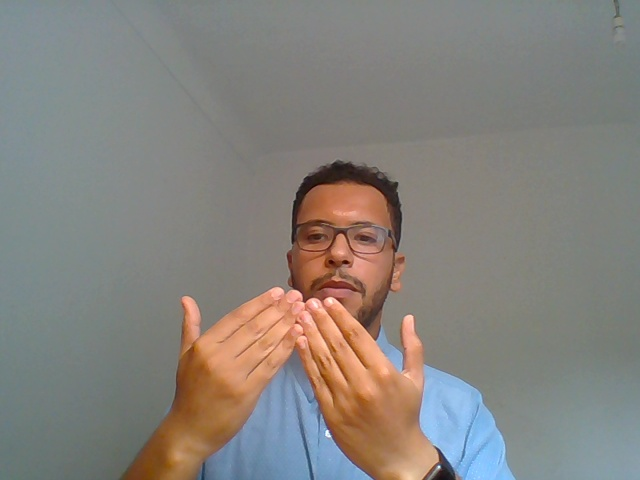thanks: (101, 285, 535, 480)
